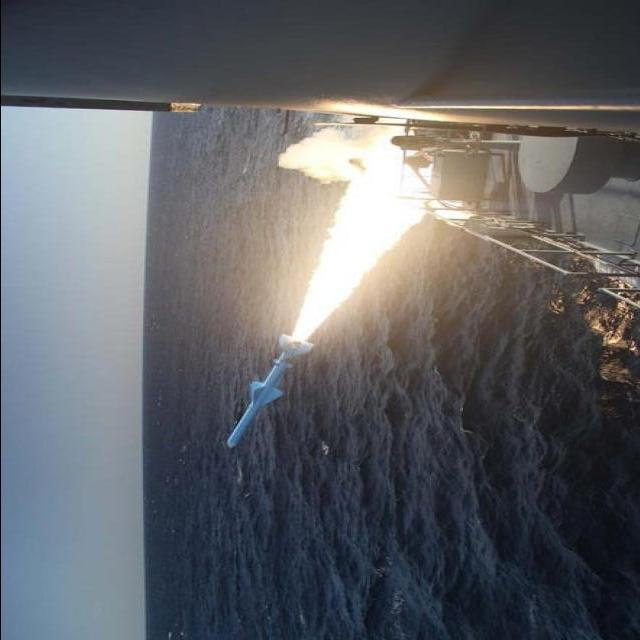Missile: (212, 326, 318, 456)
